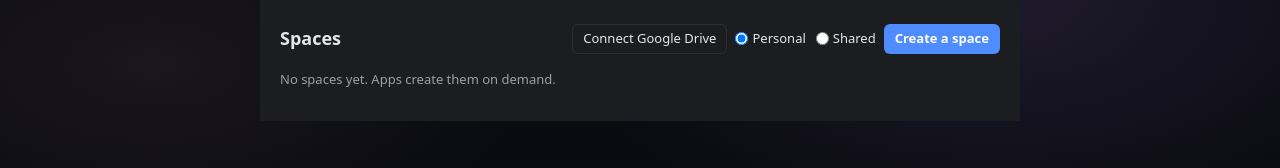
connecting a new source (R3-206) › says so plainly when the deployment has no Drive connector
The width and height of the screenshot is (1280, 168).
Click the button "Connect Google Drive".
click(650, 39)  # box [572,24,727,54]
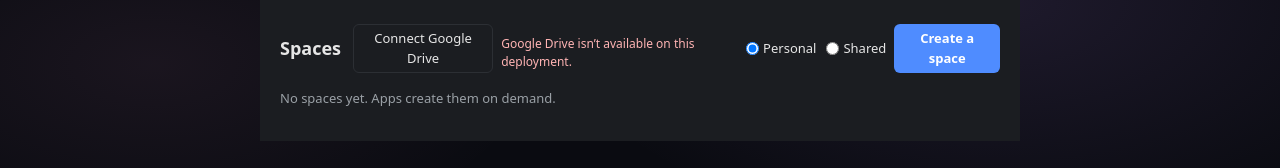
Now the text "Google Drive isn’t available on this deployment." is shown, box [501,34,695,70]
